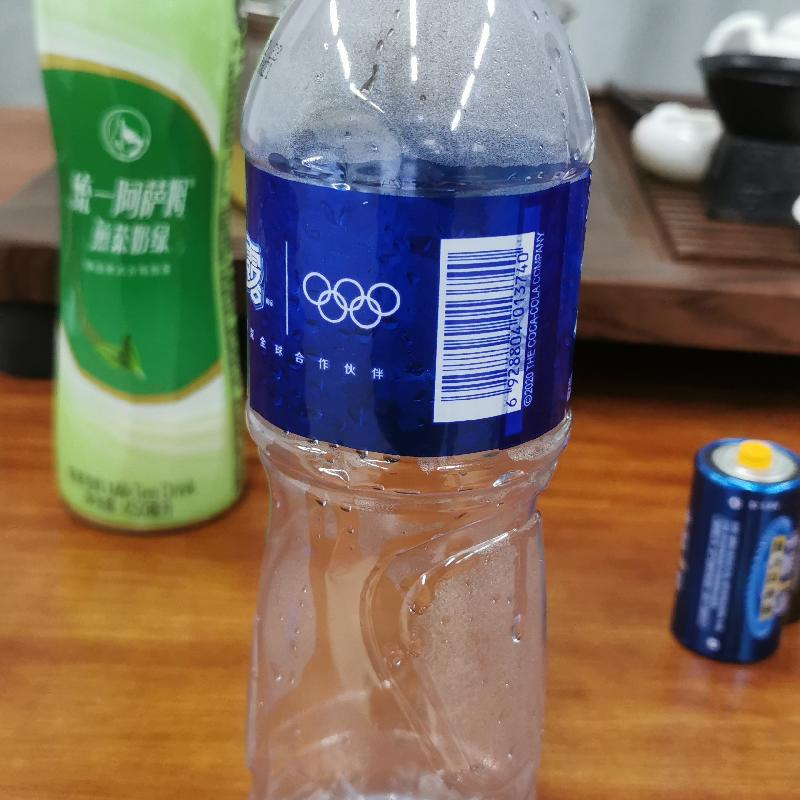bottles: (238, 3, 597, 799)
